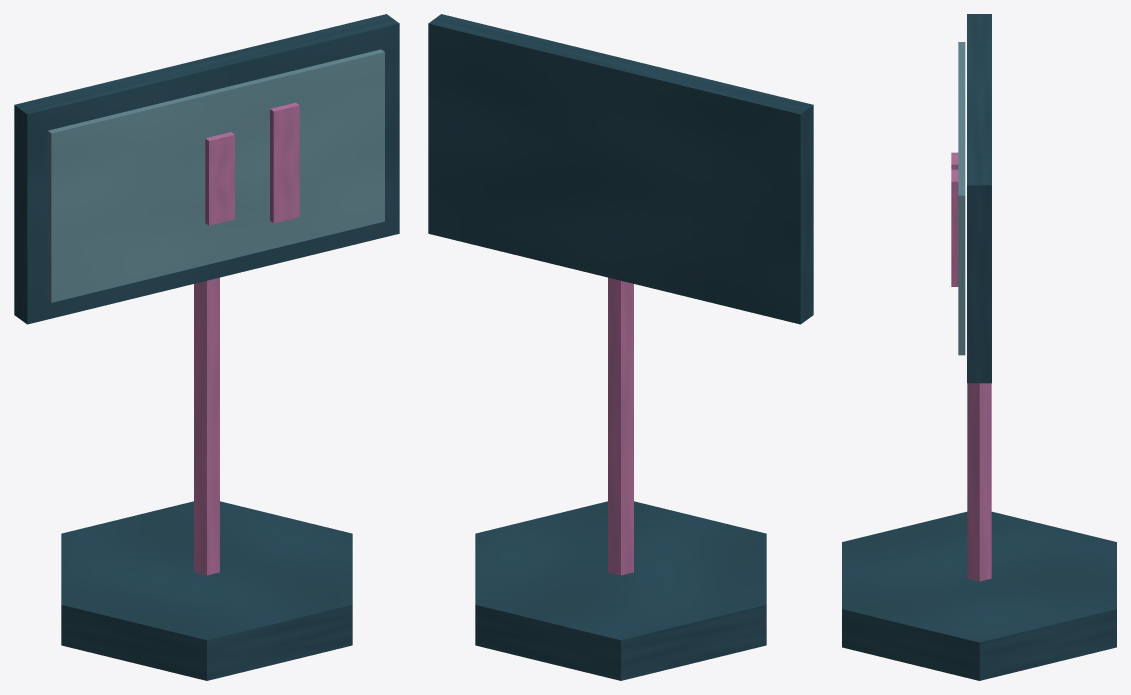
Rendered from atlas100-s063-a11.lod1.glb.
3 views of the same model, side by side, from view 1: azimuth 30°, elevation 25°; view 2: azimuth 150°, elevation 25°; view 3: azimuth 270°, elevation 25° (orthographic). The views are drawn at different scales.
Parts seen in each view (by area): view 1: atlas100-s063-a11:part-003, atlas100-s063-a11:part-000, atlas100-s063-a11:part-002, atlas100-s063-a11:part-001, atlas100-s063-a11:part-006, atlas100-s063-a11:part-005; view 2: atlas100-s063-a11:part-002, atlas100-s063-a11:part-000, atlas100-s063-a11:part-001; view 3: atlas100-s063-a11:part-000, atlas100-s063-a11:part-002, atlas100-s063-a11:part-001, atlas100-s063-a11:part-003, atlas100-s063-a11:part-006.
Boxes of the visible parts, bbox=[...] form: atlas100-s063-a11:part-003: bbox=[47, 49, 384, 302]; atlas100-s063-a11:part-000: bbox=[61, 501, 352, 680]; atlas100-s063-a11:part-002: bbox=[14, 14, 399, 324]; atlas100-s063-a11:part-001: bbox=[194, 277, 219, 575]; atlas100-s063-a11:part-006: bbox=[270, 102, 299, 223]; atlas100-s063-a11:part-005: bbox=[205, 132, 234, 225]; atlas100-s063-a11:part-002: bbox=[428, 14, 813, 324]; atlas100-s063-a11:part-000: bbox=[475, 501, 766, 680]; atlas100-s063-a11:part-001: bbox=[608, 277, 633, 575]; atlas100-s063-a11:part-000: bbox=[842, 511, 1116, 680]; atlas100-s063-a11:part-002: bbox=[967, 14, 991, 383]; atlas100-s063-a11:part-001: bbox=[967, 383, 991, 581]; atlas100-s063-a11:part-003: bbox=[958, 42, 965, 355]; atlas100-s063-a11:part-006: bbox=[951, 169, 958, 286].
Size of the model in its own units: 1.15 by 1.61 by 0.7794.
3 materials, 3 textured.
